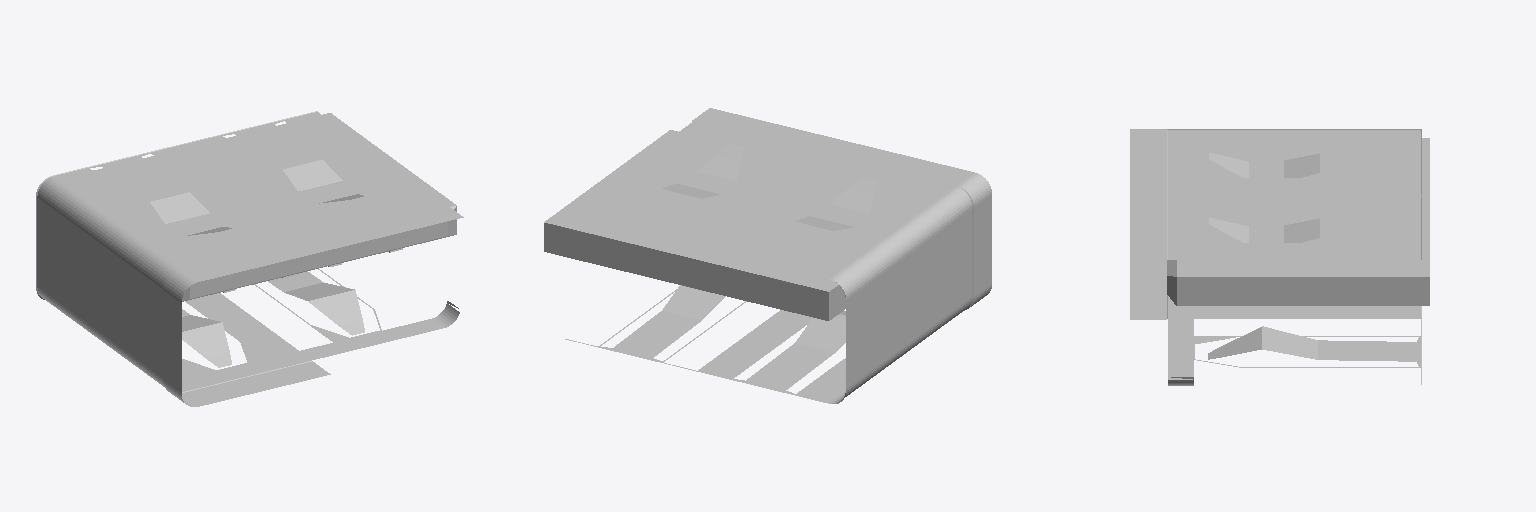
Rendered from Charger.obj.
3 views of the same model, side by side, from view 1: azimuth 30°, elevation 25°; view 2: azimuth 150°, elevation 25°; view 3: azimuth 270°, elevation 25° (orthographic).
Visible parts, largest first — view 1: polySurface2, polySurface2_1, polySurface4; view 2: polySurface2, polySurface2_1, polySurface4; view 3: polySurface2, polySurface4, polySurface2_1.
Boxes of the visible parts, x1,y1,x2,y2 form: polySurface2: [36, 111, 463, 406]; polySurface2_1: [93, 114, 454, 301]; polySurface4: [95, 113, 456, 301]; polySurface2: [565, 108, 991, 403]; polySurface2_1: [544, 131, 890, 309]; polySurface4: [544, 130, 882, 320]; polySurface2: [1130, 129, 1429, 385]; polySurface4: [1167, 138, 1429, 276]; polySurface2_1: [1167, 148, 1429, 276].
Bounding box in the file's own units: 5.93 × 2.58 × 5.15.